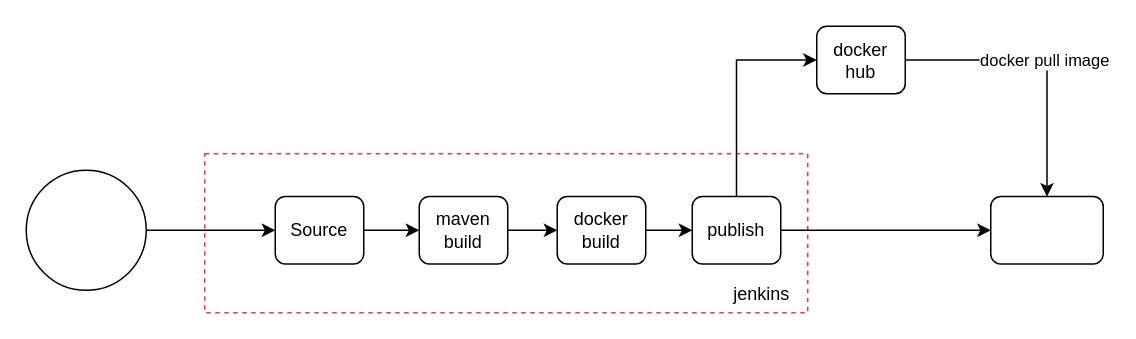
The diagram is 1136 pixels wide and 339 high, and some of its shapes have lost their labels. The shapes that lost their labels are listed below. From the top down, each one's centre as x and y in pixels, then its label:
(85,229): Github
(1046,229): docker-host dev
